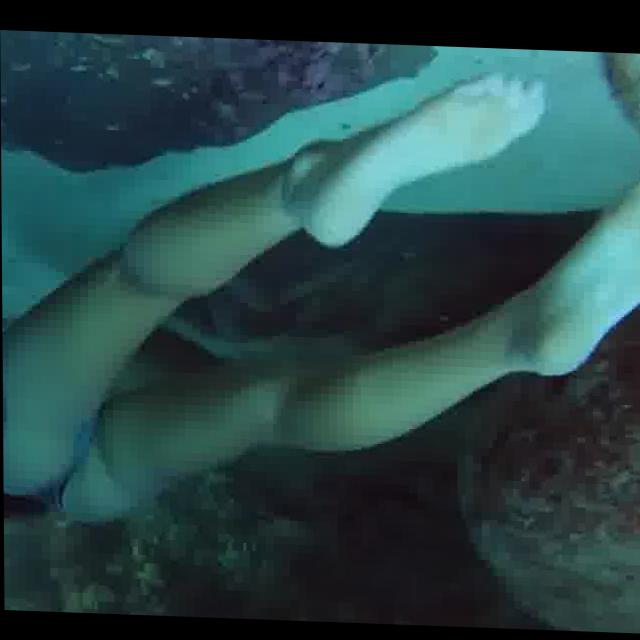human: (0, 49, 640, 575)
